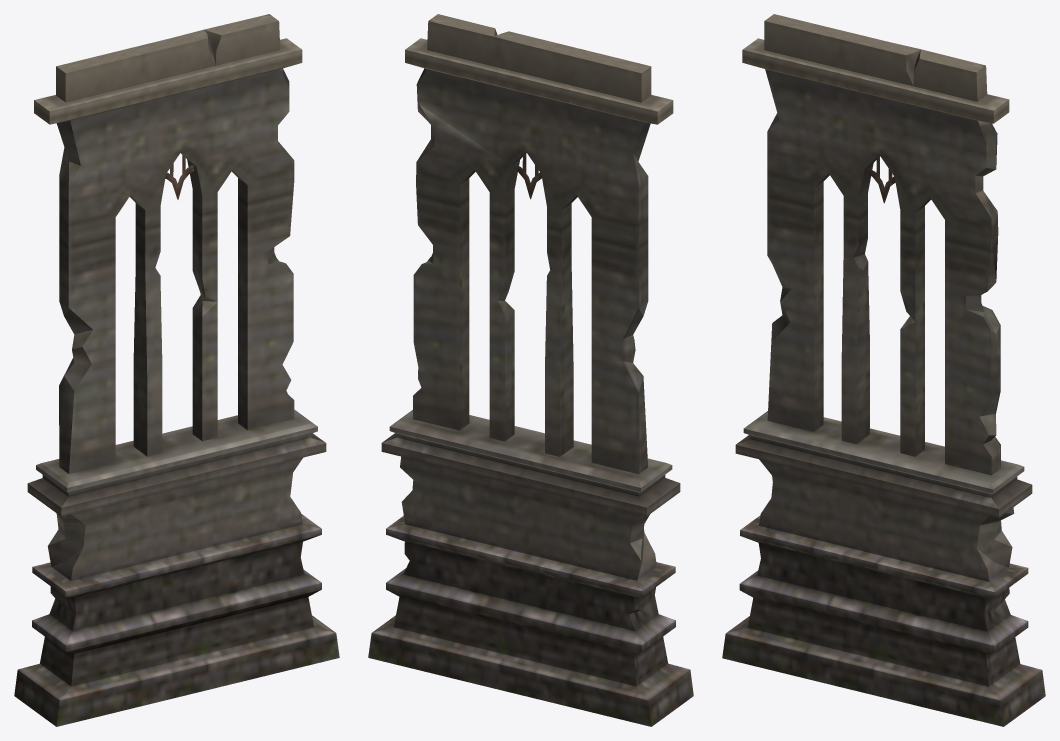
Rendered from SM_zhucheng_poqiang01.FBX.
The picture shows the model from 3 angles, left to right: view 1: azimuth 30°, elevation 25°; view 2: azimuth 150°, elevation 25°; view 3: azimuth 330°, elevation 25°; orthographic projection.
Parts seen in each view (by area): view 1: SM_zhucheng_poqiang01; view 2: SM_zhucheng_poqiang01; view 3: SM_zhucheng_poqiang01.
Boxes of the visible parts, x1=… form: SM_zhucheng_poqiang01: x1=14, y1=14, x2=339, y2=726; SM_zhucheng_poqiang01: x1=368, y1=14, x2=693, y2=726; SM_zhucheng_poqiang01: x1=722, y1=14, x2=1045, y2=726.
Bounding box in the file's own units: 164 × 353 × 42.48.
